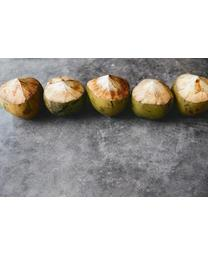coconut: (0, 70, 45, 127), (86, 73, 132, 124), (43, 72, 88, 122), (133, 80, 175, 123), (174, 72, 207, 119)
